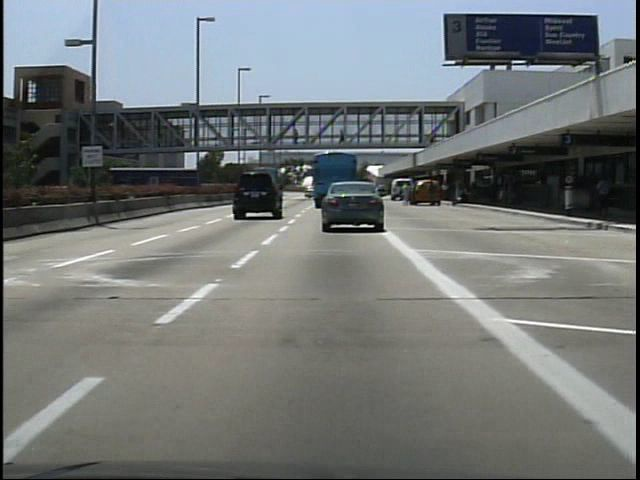person: (594, 171, 614, 217), (427, 178, 444, 211), (397, 180, 415, 209), (336, 127, 349, 152), (291, 125, 305, 145)
